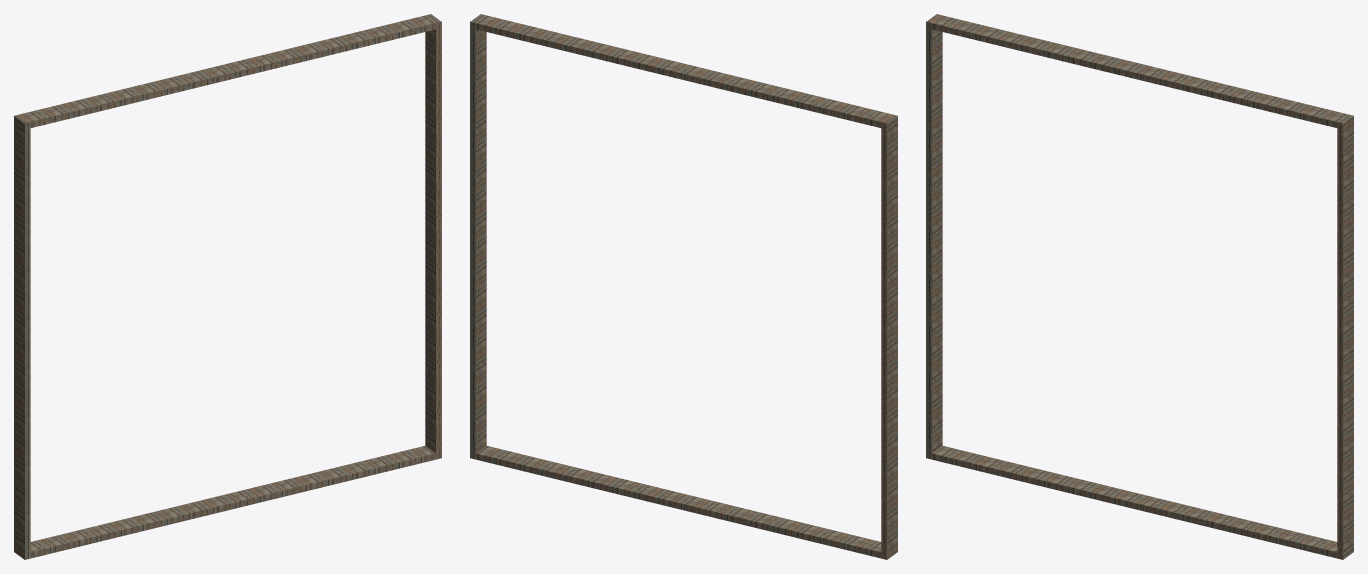
The model's file is urbanwood01fenceb_wtf.obj.
The picture shows the model from 3 angles, left to right: view 1: azimuth 30°, elevation 25°; view 2: azimuth 150°, elevation 25°; view 3: azimuth 330°, elevation 25°; orthographic projection.
Visible parts, largest first — view 1: group2; view 2: group2; view 3: group2.
Boxes of the visible parts, <box> form: group2: <box>14,14,441,559</box>; group2: <box>470,14,897,559</box>; group2: <box>926,14,1353,559</box>.
Bounding box in the file's own units: 660 × 660 × 29.33.
